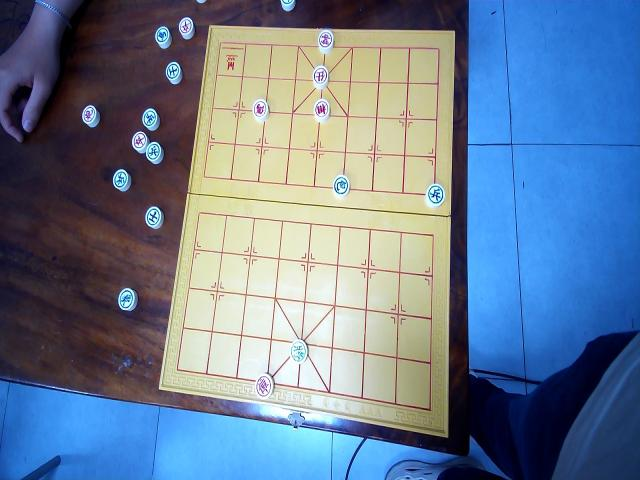piece: (254, 373, 274, 399), (425, 182, 445, 207), (290, 337, 308, 362), (118, 287, 136, 312), (332, 173, 350, 198), (82, 104, 100, 128), (144, 206, 162, 230), (164, 60, 182, 84), (142, 107, 160, 131), (112, 168, 130, 191), (144, 140, 162, 163), (178, 15, 194, 40), (312, 64, 328, 88), (252, 97, 268, 121), (313, 98, 329, 122), (317, 29, 333, 52), (132, 129, 148, 152), (155, 25, 171, 48), (280, 0, 296, 12), (195, 0, 207, 4)
